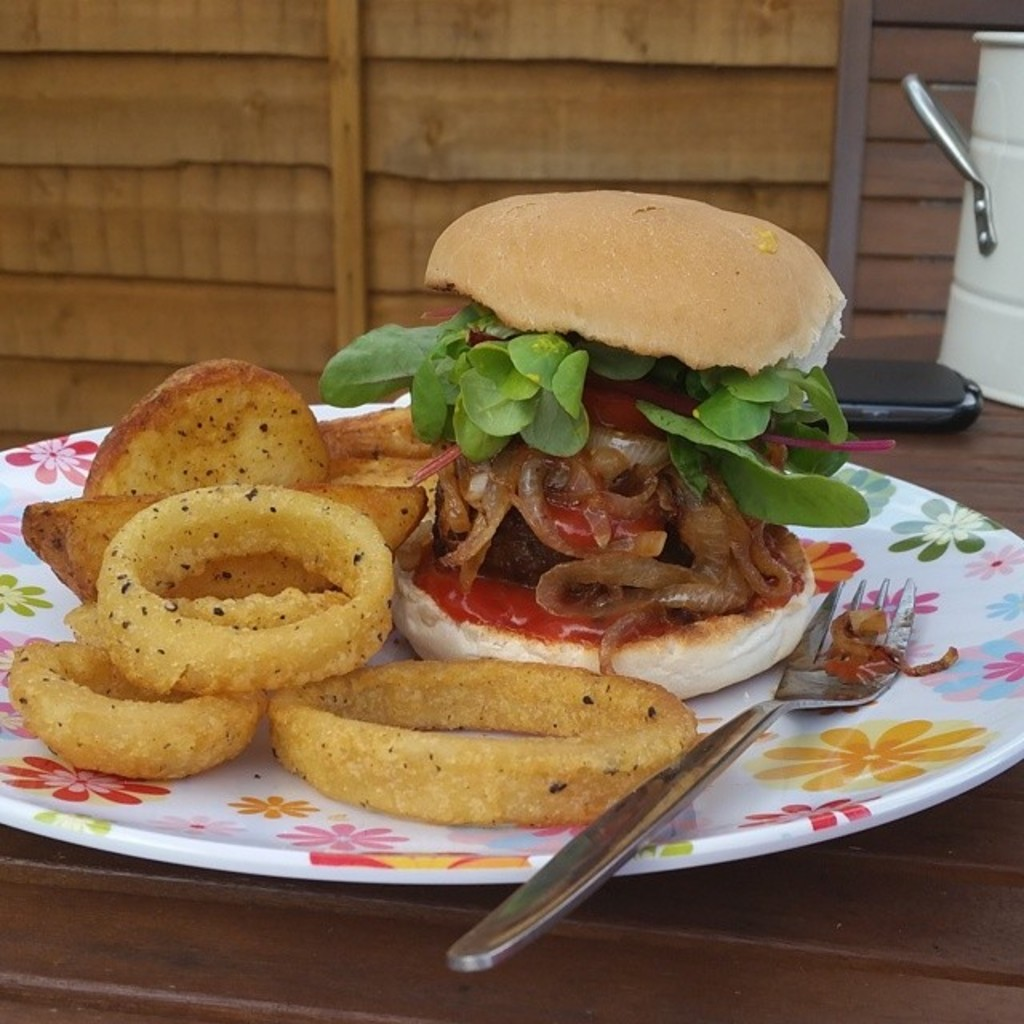Hamburger: (312, 192, 899, 704)
